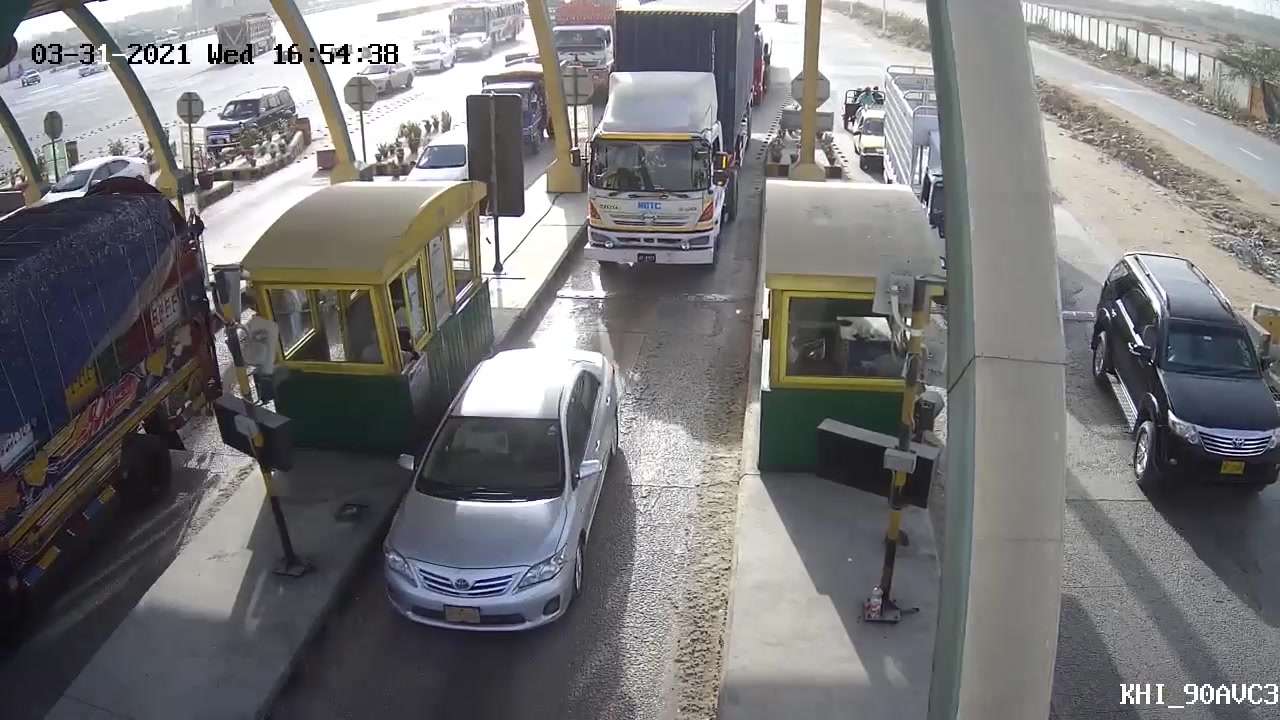F1: (373, 316, 624, 640)
F6: (567, 1, 763, 285)
